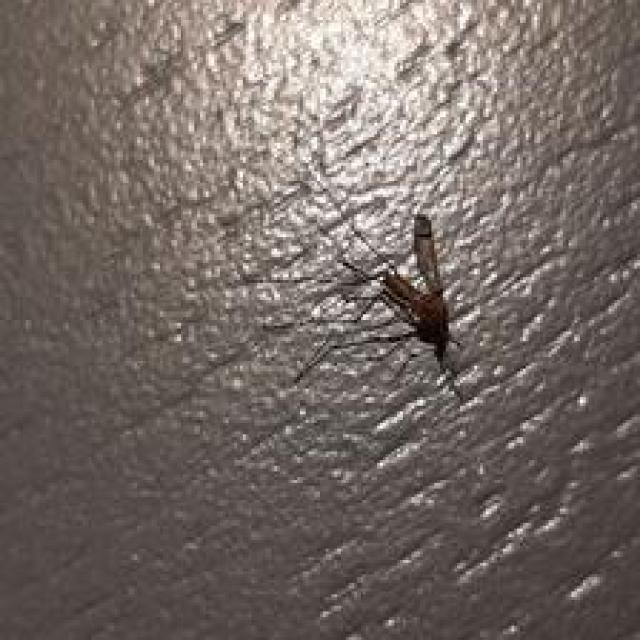Culex: (334, 210, 469, 399)
